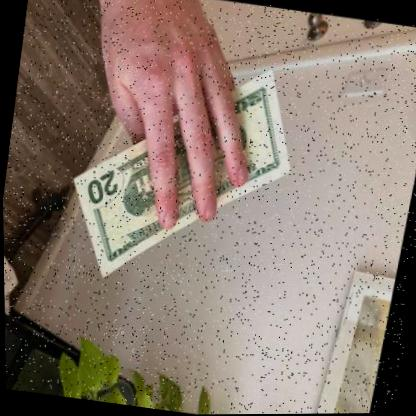twenty-back: (73, 67, 291, 280)
